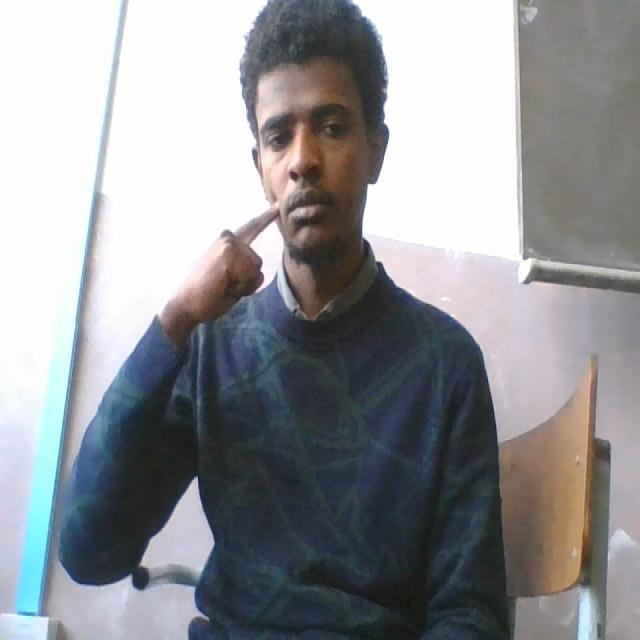enkuan_dehna_metachu: (190, 185, 377, 306)
